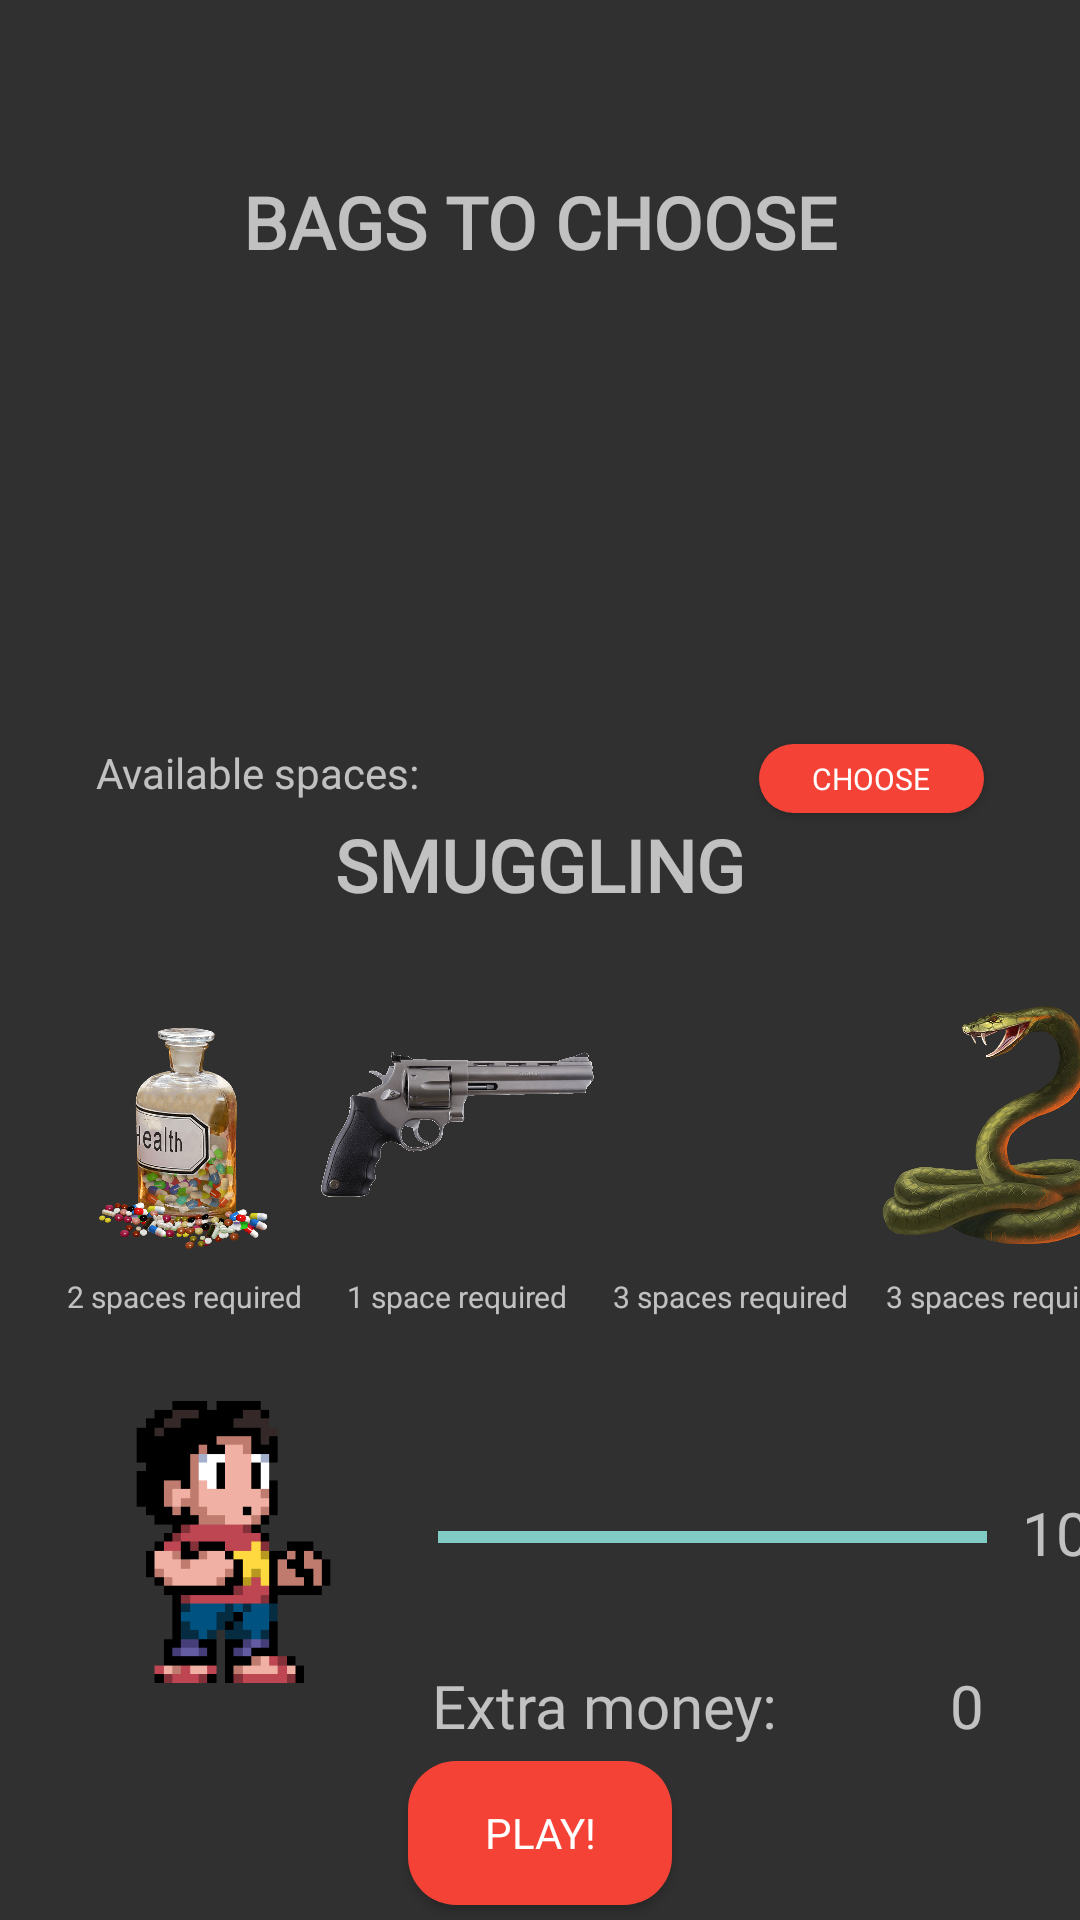

Icon click points for this 1080x1920 phone screenshot, format (x,y):
drugs: (183,1138)
gun: (457,1124)
